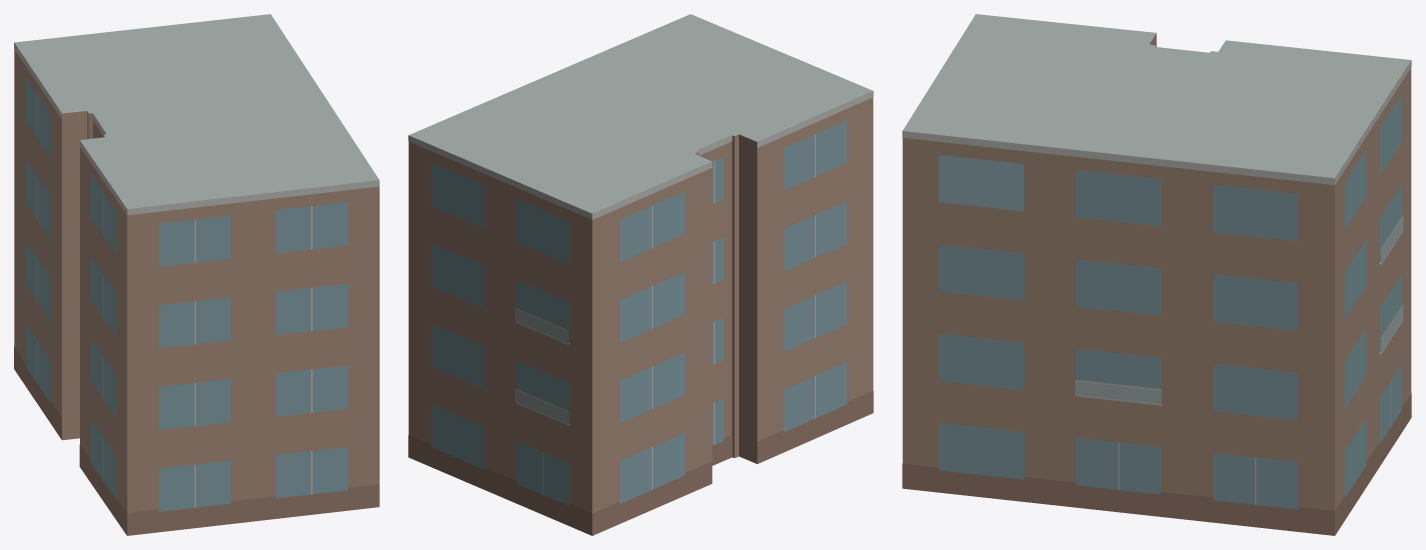
File: survey-upis-32665259.glb
3 renders of one model, left to right at view 1: azimuth 30°, elevation 25°; view 2: azimuth 150°, elevation 25°; view 3: azimuth 270°, elevation 25°, orthographic. The views are drawn at different scales.
Parts seen in each view (by area): view 1: survey-upis-32665259.tmp; view 2: survey-upis-32665259.tmp; view 3: survey-upis-32665259.tmp.
Part boxes in pixels (left/top/right/bottom): survey-upis-32665259.tmp: left=14, top=14, right=379, bottom=535; survey-upis-32665259.tmp: left=408, top=14, right=873, bottom=535; survey-upis-32665259.tmp: left=902, top=14, right=1411, bottom=535.
Size of the model in its own units: 12.48 by 12.66 by 16.34.
